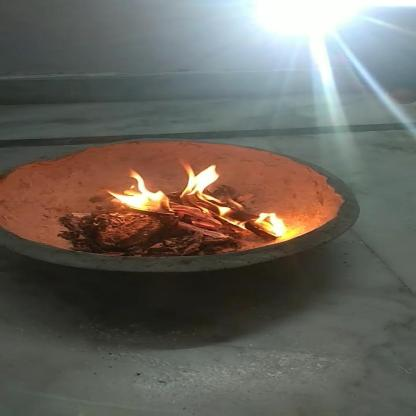fire: (94, 168, 174, 220), (171, 160, 221, 208), (249, 209, 295, 241)
